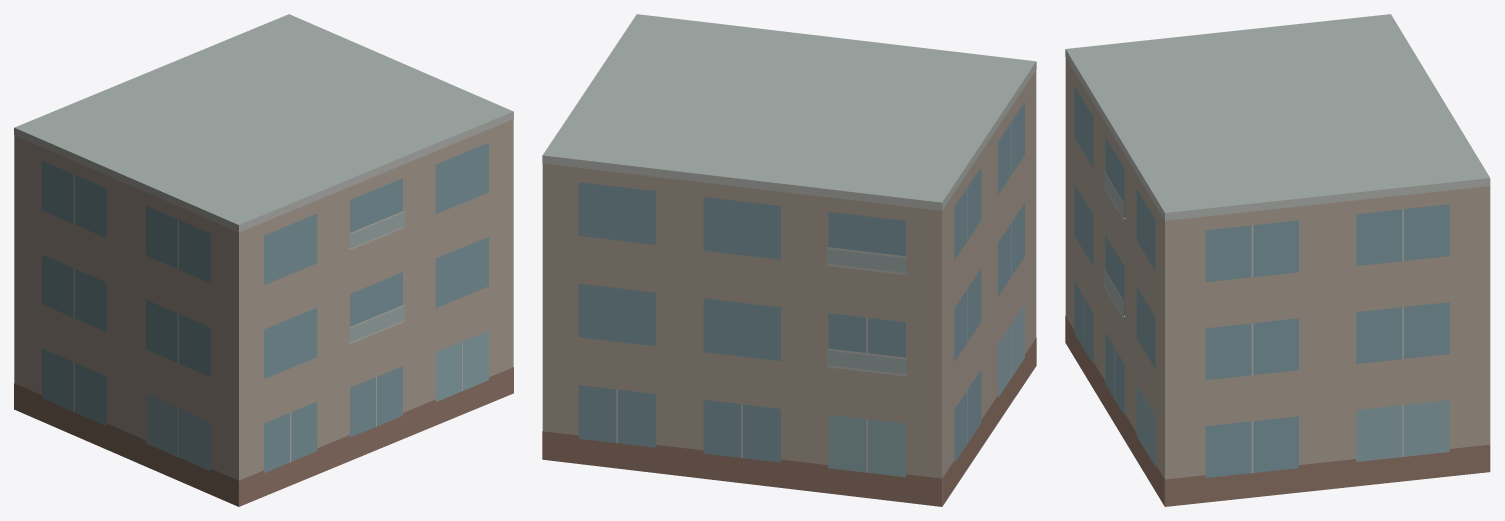
File: survey-upis-32717042.glb
The picture shows the model from 3 angles, left to right: view 1: azimuth 30°, elevation 25°; view 2: azimuth 150°, elevation 25°; view 3: azimuth 270°, elevation 25°; orthographic projection. The views are drawn at different scales.
Visible parts, largest first — view 1: survey-upis-32717042.tmp; view 2: survey-upis-32717042.tmp; view 3: survey-upis-32717042.tmp.
Part boxes in pixels (x1,y1,x2,y2): survey-upis-32717042.tmp: [14, 14, 513, 506]; survey-upis-32717042.tmp: [542, 14, 1036, 506]; survey-upis-32717042.tmp: [1065, 14, 1490, 506].
Bounding box in the file's own units: 13.3 × 9.15 × 12.
